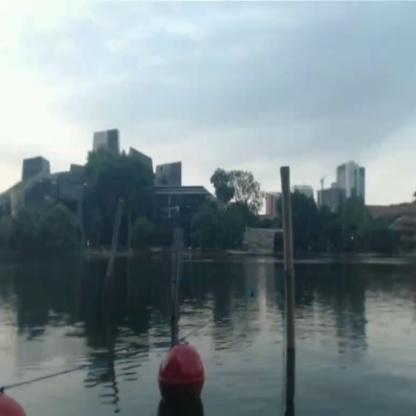red_buoy: (160, 340, 204, 406)
